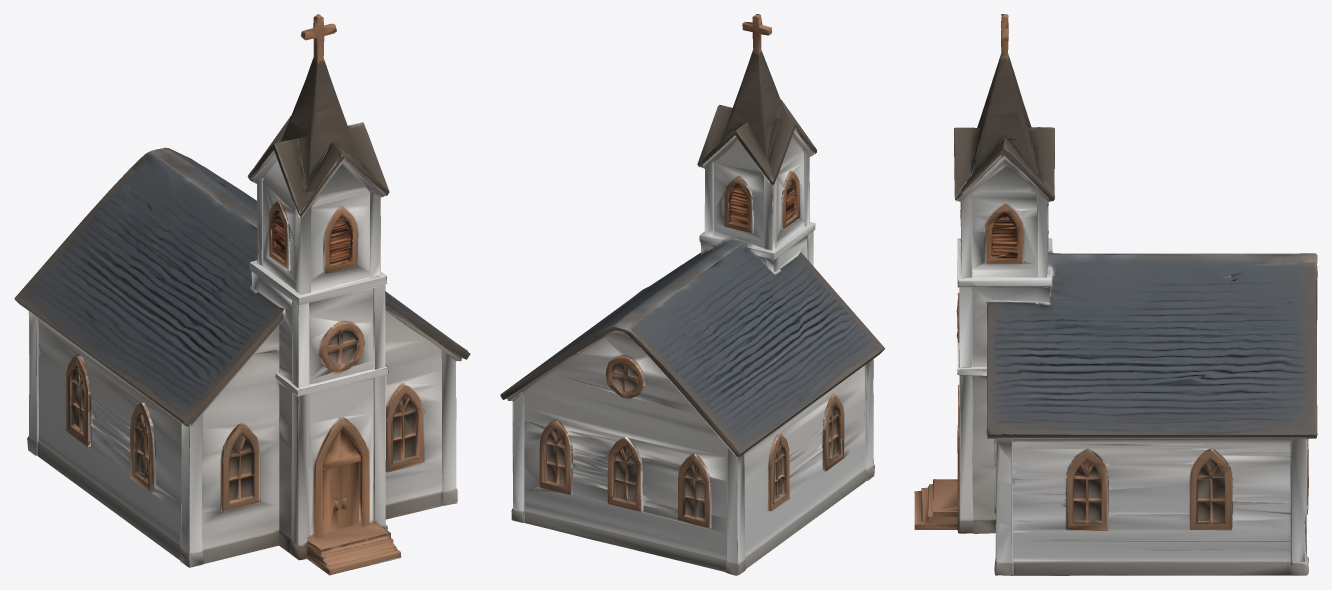
File: church.glb
3 renders of one model, left to right at view 1: azimuth 30°, elevation 25°; view 2: azimuth 150°, elevation 25°; view 3: azimuth 270°, elevation 25°, orthographic. The views are drawn at different scales.
Visible parts, largest first — view 1: node_0; view 2: node_0; view 3: node_0.
Part boxes in pixels (x1=…): node_0: x1=14, y1=14, x2=470, y2=575; node_0: x1=500, y1=14, x2=884, y2=575; node_0: x1=914, y1=14, x2=1317, y2=575.
Bounding box in the file's own units: 0.5222 × 0.9041 × 0.6615.
Materials: 1 (1 with a texture image).
